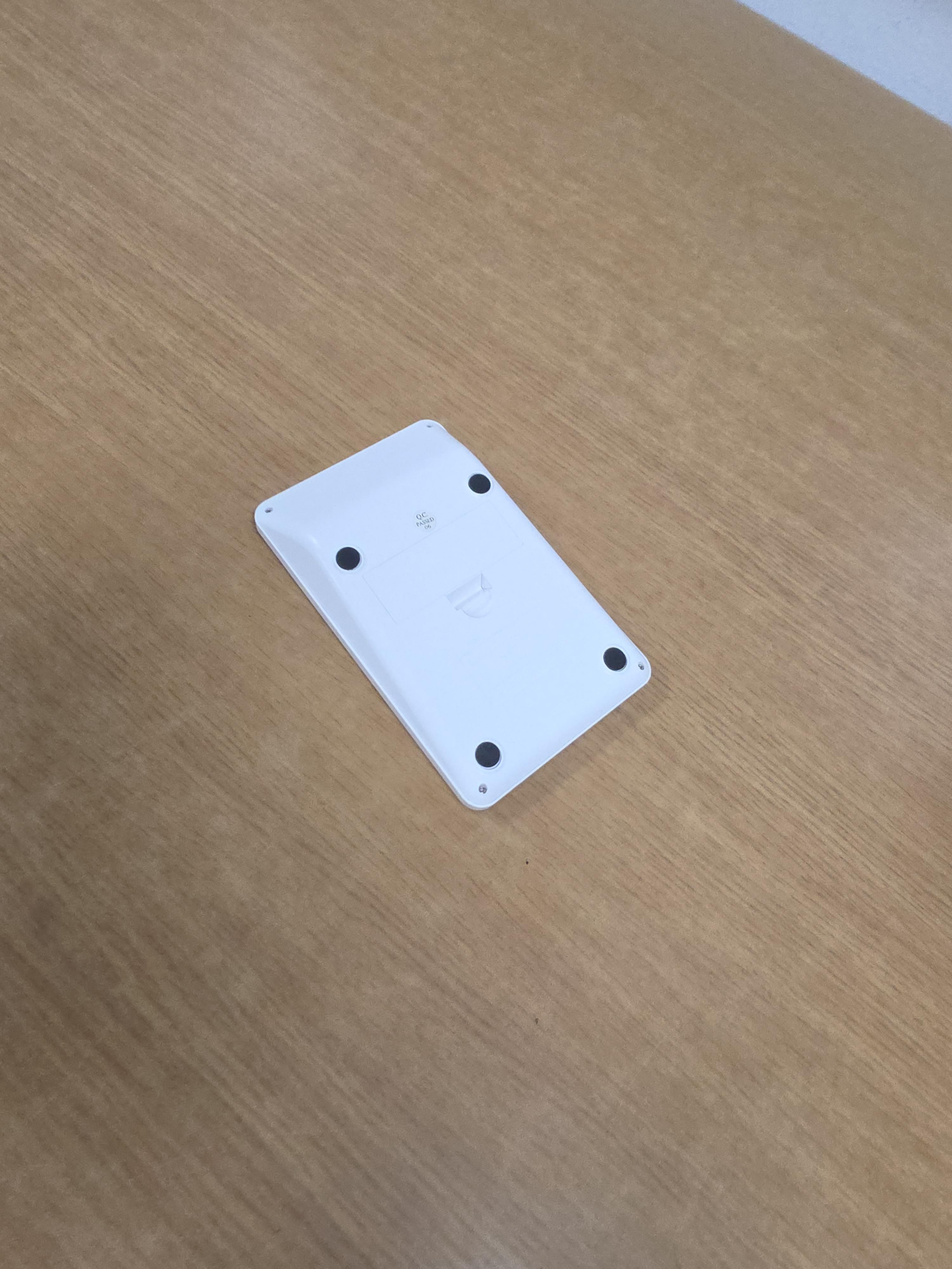calculator: (254, 418, 653, 813)
